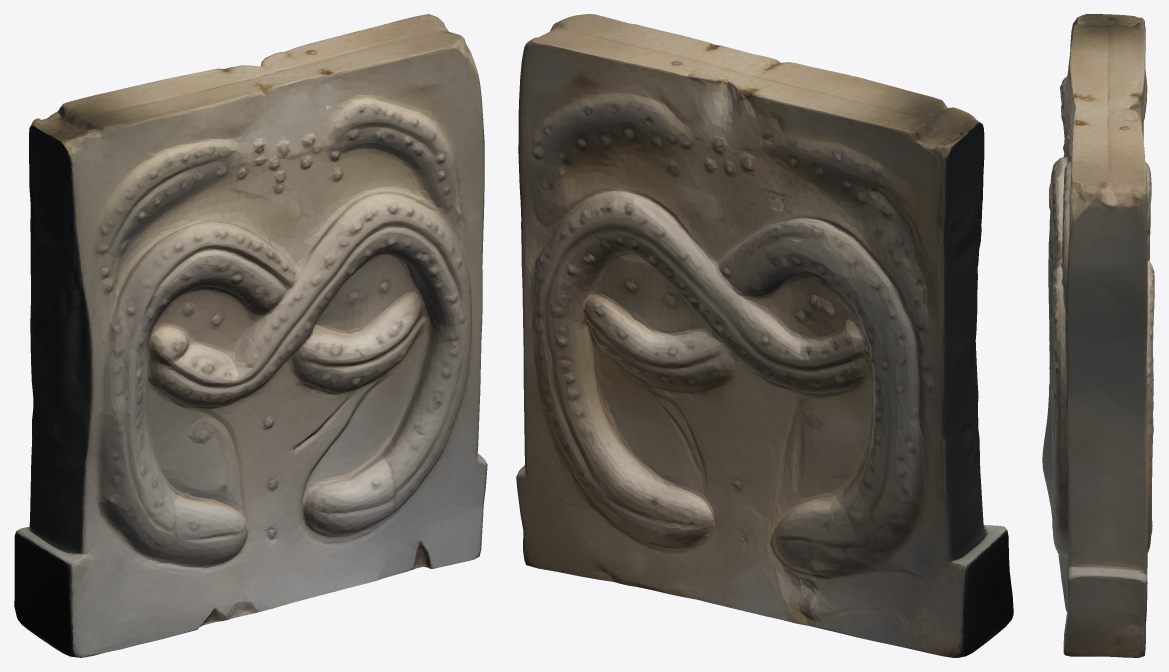
File: 双蛇纹方形砖.glb
3 renders of one model, left to right at view 1: azimuth 30°, elevation 25°; view 2: azimuth 150°, elevation 25°; view 3: azimuth 270°, elevation 25°, orthographic. The views are drawn at different scales.
Parts seen in each view (by area): view 1: world; view 2: world; view 3: world.
Boxes of the visible parts, <box> form: world: <box>14,14,487,657</box>; world: <box>516,14,1013,657</box>; world: <box>1042,14,1154,657</box>.
Bounding box in the file's own units: 0.8722 × 0.9862 × 0.2139.
1 material, 1 textured.
